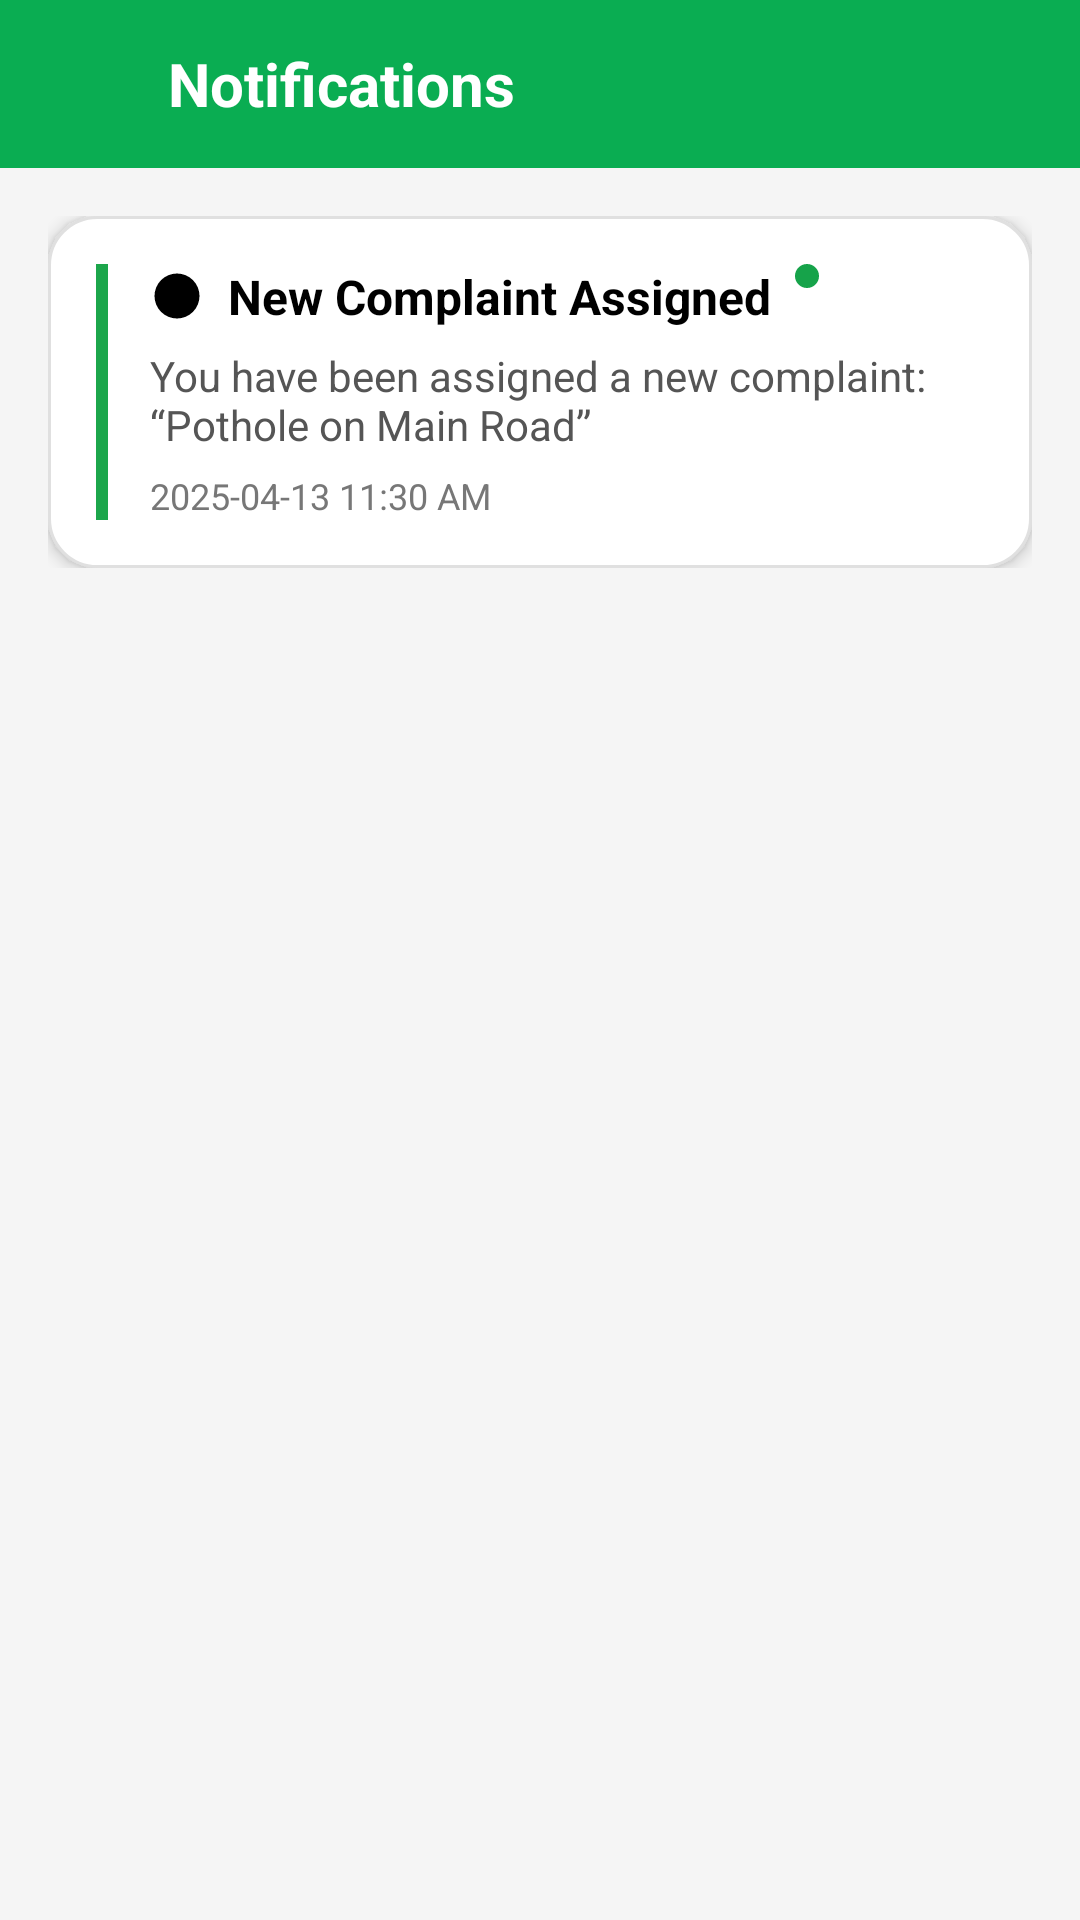

Icon click points for this 1080px×1920px phone screenshot, format (x=x, y=y):
dot: (x=807, y=276)
